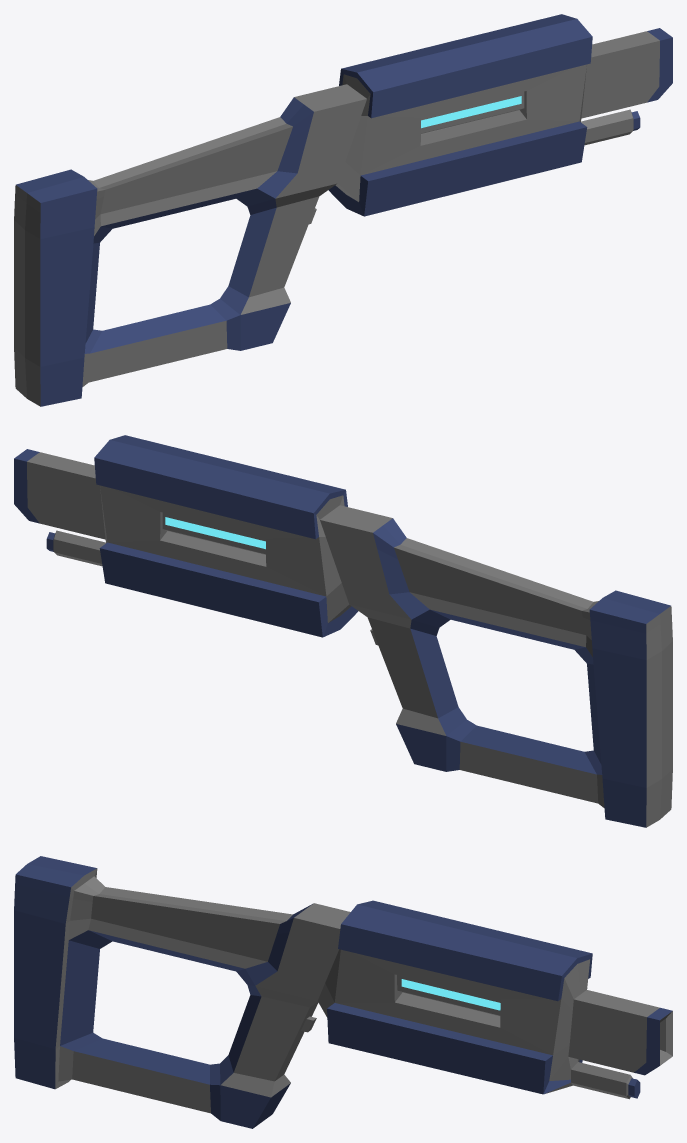
Rendered from Shotgun.glb.
The picture shows the model from 3 angles, top to bottom: view 1: azimuth 30°, elevation 25°; view 2: azimuth 150°, elevation 25°; view 3: azimuth 330°, elevation 25°; orthographic projection.
Visible parts, largest first — view 1: Shotgun; view 2: Shotgun; view 3: Shotgun.
Part boxes in pixels (box(x1,y1,x2,y2)): Shotgun: box(14, 14, 672, 406); Shotgun: box(14, 435, 672, 827); Shotgun: box(14, 856, 672, 1128).
Size of the model in its own units: 0.7586 by 0.2804 by 0.0858.
